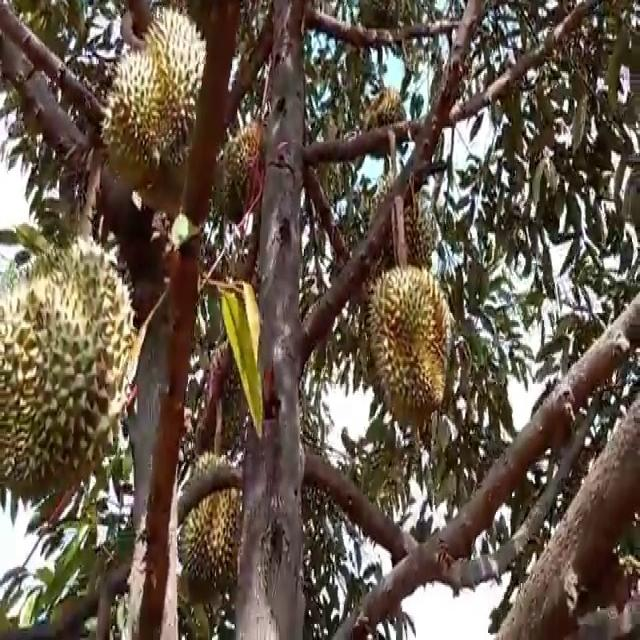durian: (0, 226, 138, 502), (100, 8, 209, 184), (360, 260, 458, 428), (175, 443, 251, 602), (212, 111, 271, 225), (387, 188, 447, 276), (355, 81, 412, 160)
